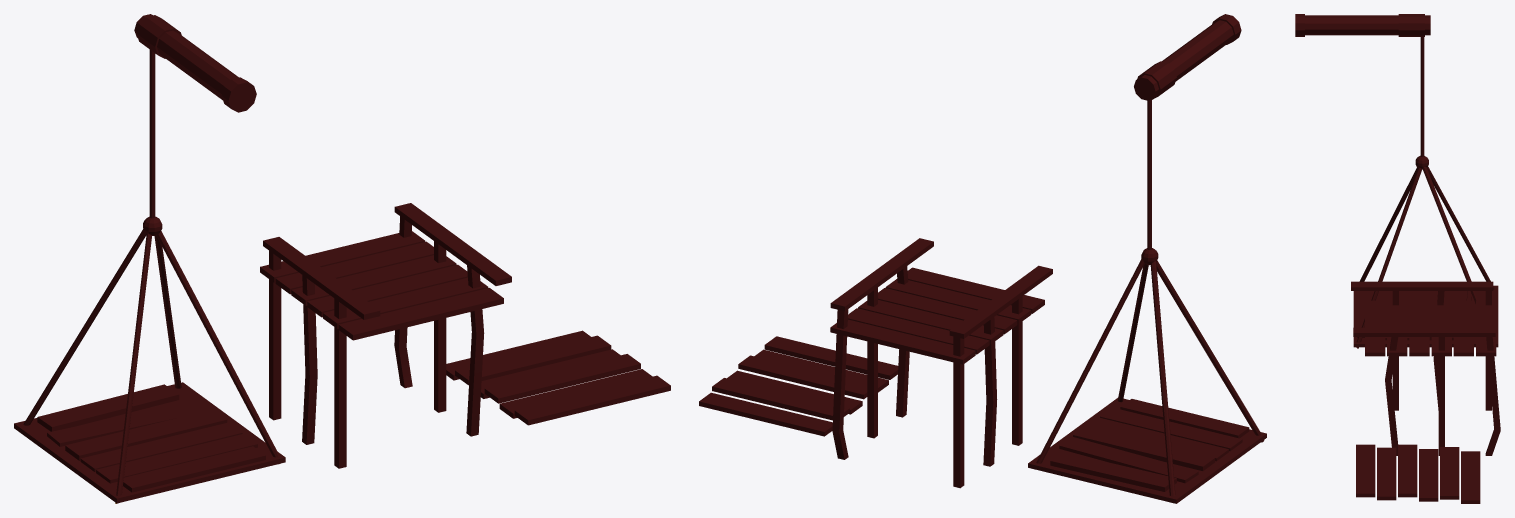
The model's file is plateforme_set_marron_02.fbx.
The picture shows the model from 3 angles, left to right: view 1: azimuth 30°, elevation 25°; view 2: azimuth 150°, elevation 25°; view 3: azimuth 270°, elevation 25°; orthographic projection. The views are drawn at different scales.
Parts seen in each view (by area): view 1: polySurface67, polySurface122, plateforme_05; view 2: polySurface67, polySurface122, plateforme_05; view 3: polySurface122, polySurface67, plateforme_05.
Part boxes in pixels (<box>): polySurface67: <box>14,14,285,503</box>; polySurface122: <box>260,203,511,468</box>; plateforme_05: <box>446,330,670,425</box>; polySurface67: <box>1028,14,1266,503</box>; polySurface122: <box>830,238,1052,488</box>; plateforme_05: <box>699,336,898,436</box>; polySurface122: <box>1351,281,1500,455</box>; polySurface67: <box>1295,14,1498,348</box>; plateforme_05: <box>1356,444,1480,503</box>.
Bounding box in the file's own units: 18.91 × 15.49 × 8.59.
Materials: 1 (1 with a texture image).
